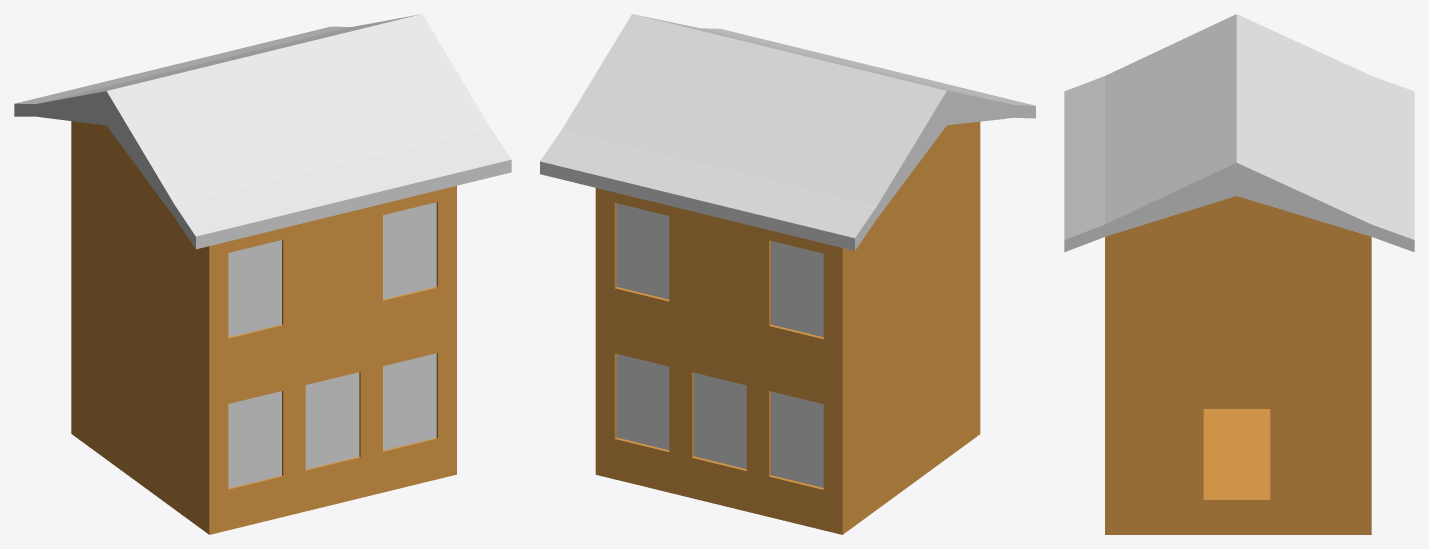
File: house.fbx
The picture shows the model from 3 angles, left to right: view 1: azimuth 30°, elevation 25°; view 2: azimuth 150°, elevation 25°; view 3: azimuth 270°, elevation 25°; orthographic projection. The views are drawn at different scales.
Visible parts, largest first — view 1: Cube; view 2: Cube; view 3: Cube.
Part boxes in pixels (<box>): Cube: <box>14,14,511,534</box>; Cube: <box>540,14,1035,534</box>; Cube: <box>1064,14,1414,534</box>.
Bounding box in the file's own units: 795 × 969 × 792.
